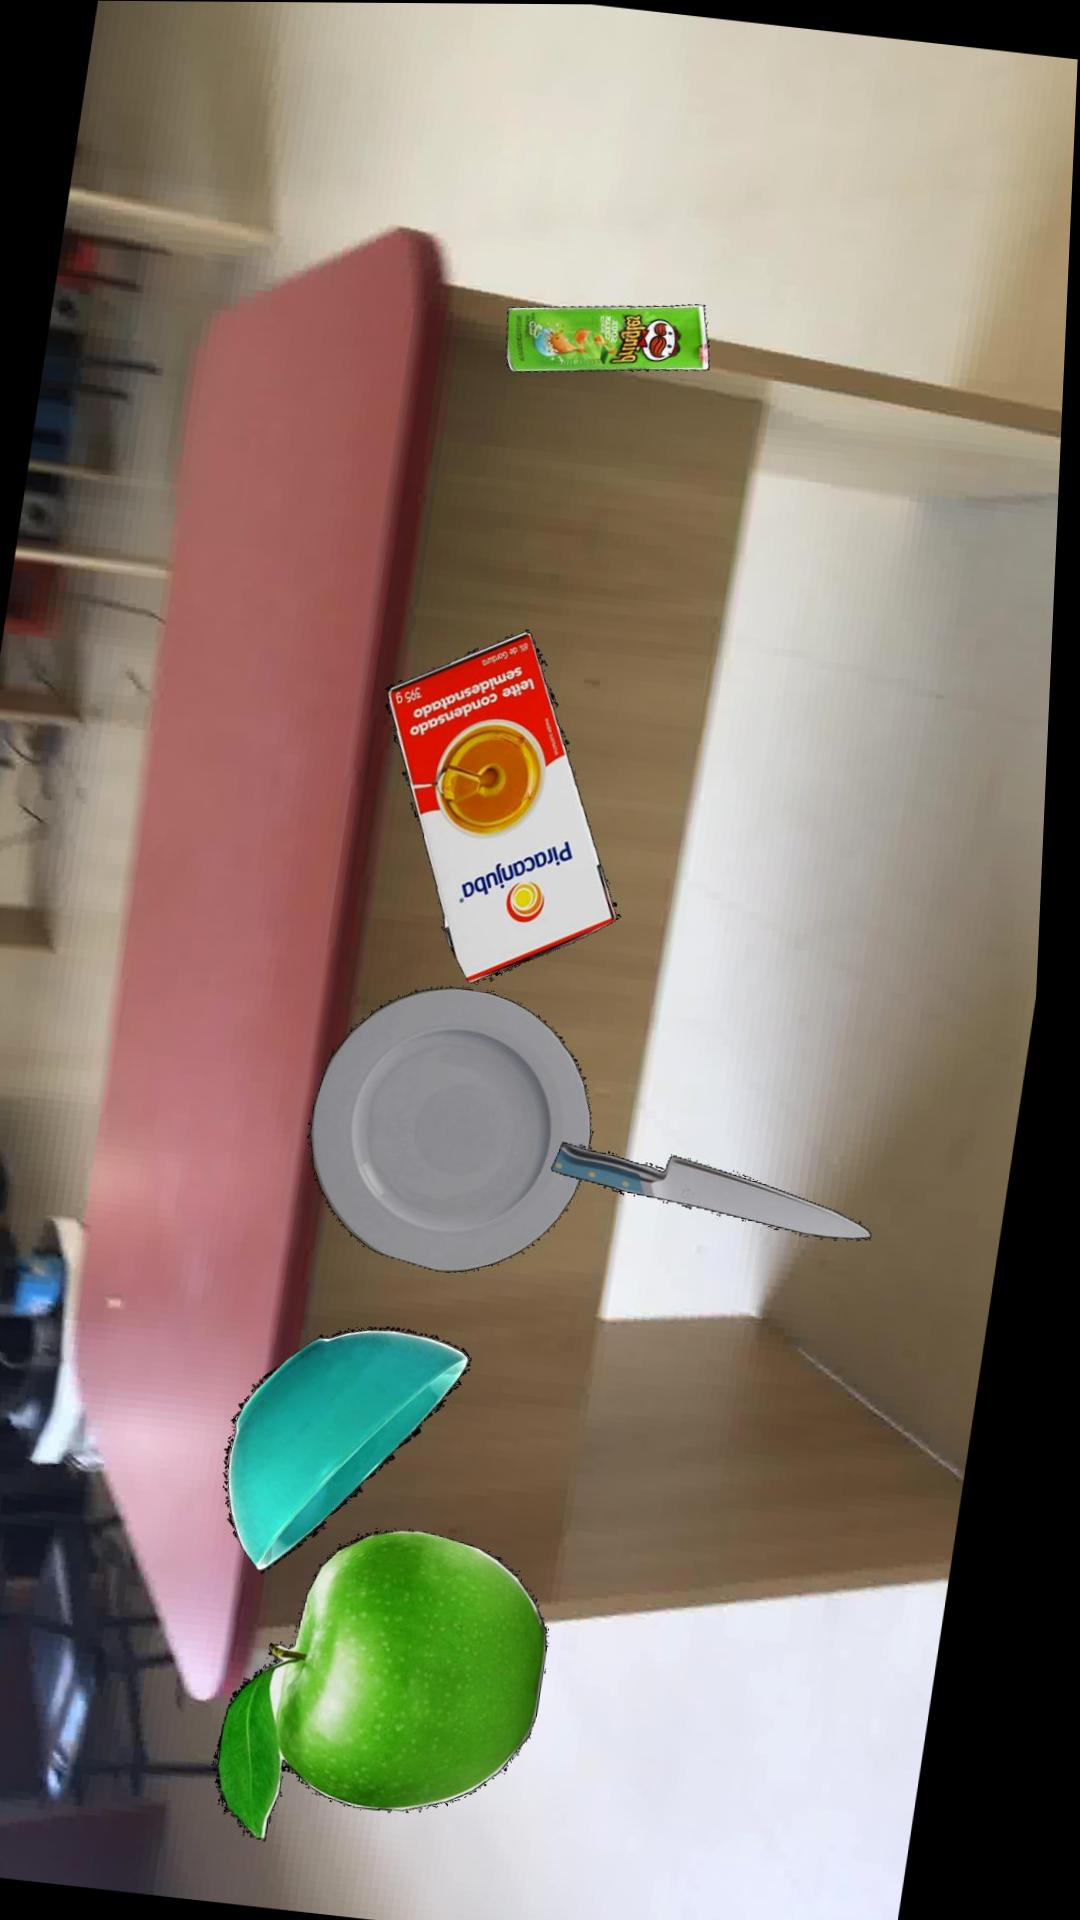bowl: (239, 1328, 485, 1572)
green apple: (232, 1530, 566, 1842)
knife: (564, 1143, 884, 1240)
plate: (320, 986, 604, 1274)
pringles: (510, 305, 715, 373)
